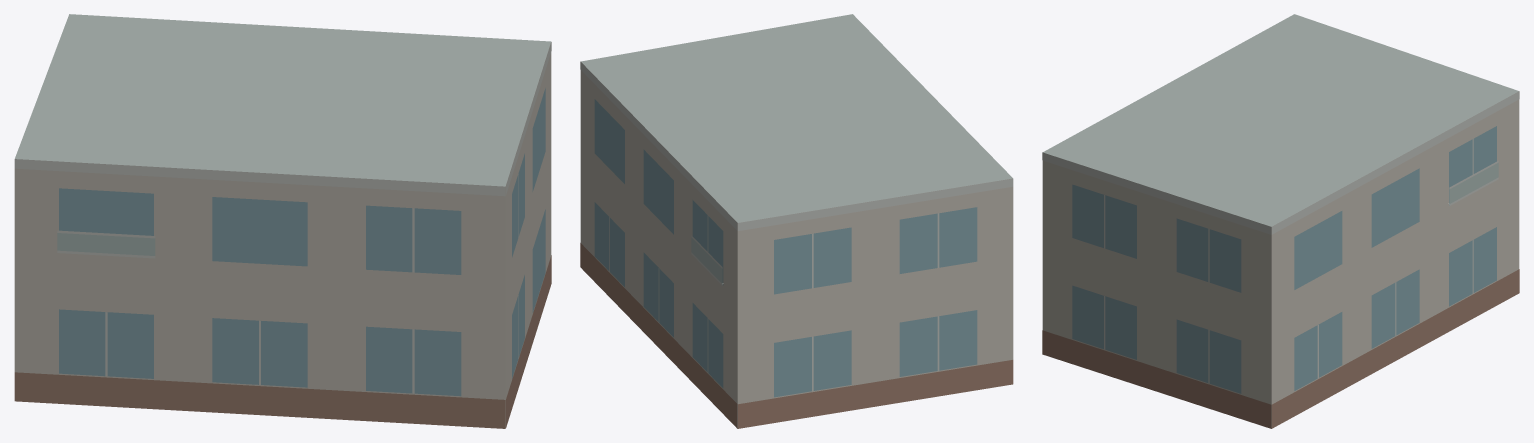
The model's file is survey-upis-32590153.glb.
3 views of the same model, side by side, from view 1: azimuth 30°, elevation 25°; view 2: azimuth 150°, elevation 25°; view 3: azimuth 270°, elevation 25° (orthographic). The views are drawn at different scales.
Parts seen in each view (by area): view 1: survey-upis-32590153.tmp; view 2: survey-upis-32590153.tmp; view 3: survey-upis-32590153.tmp.
Part boxes in pixels (x1,y1,x2,y2): survey-upis-32590153.tmp: (14,14,551,428); survey-upis-32590153.tmp: (580,14,1013,428); survey-upis-32590153.tmp: (1042,14,1519,428).
Size of the model in its own units: 13.79 by 6.1 by 13.06.
